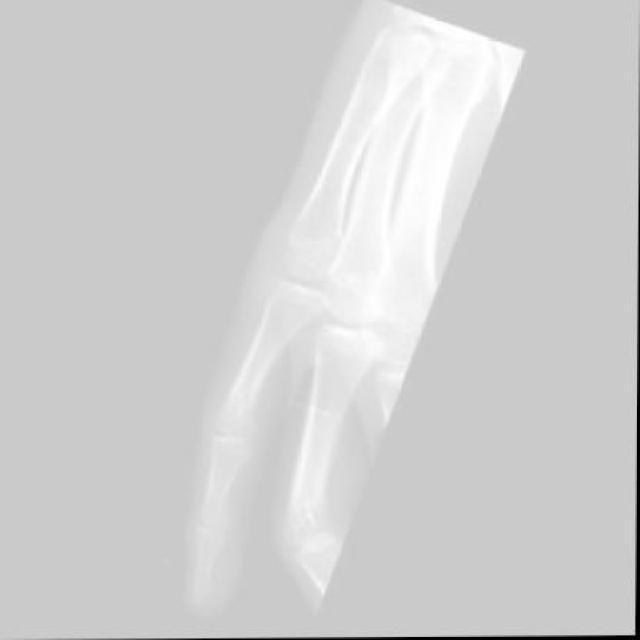Fracture: (252, 269, 328, 333)
